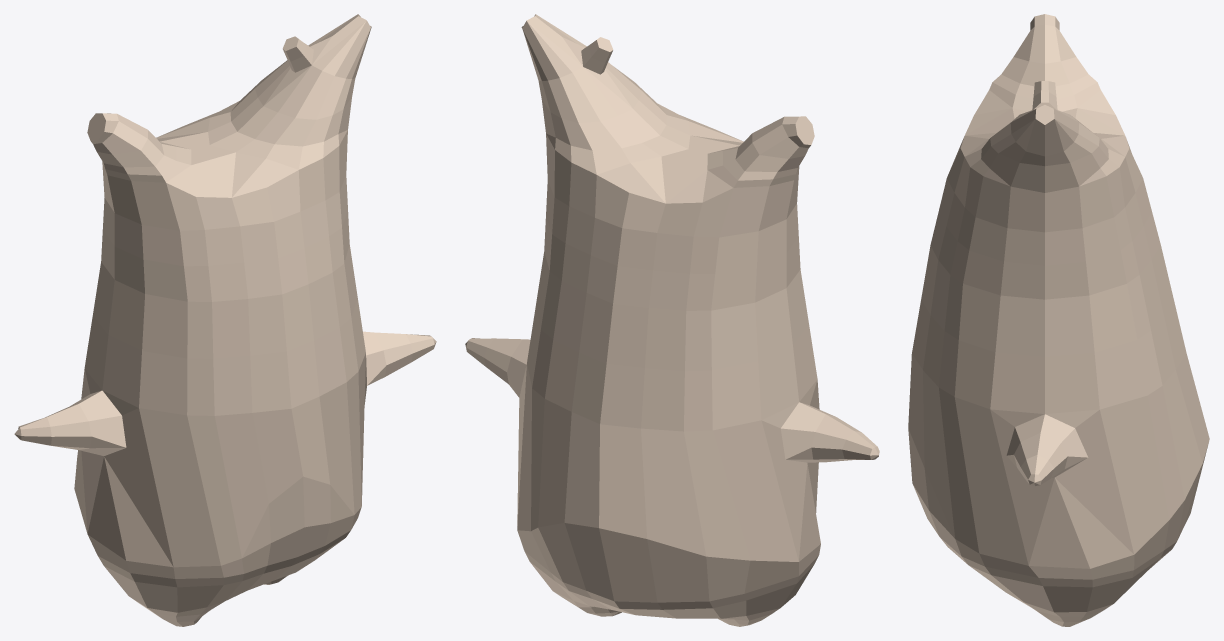
Rendered from frame_0007.obj.
3 views of the same model, side by side, from view 1: azimuth 30°, elevation 25°; view 2: azimuth 150°, elevation 25°; view 3: azimuth 270°, elevation 25° (orthographic). The views are drawn at different scales.
Parts seen in each view (by area): view 1: korok; view 2: korok; view 3: korok.
Boxes of the visible parts, x1,y1,x2,y2 form: korok: (14,14,436,626); korok: (465,14,879,626); korok: (908,14,1209,626).
Bounding box in the file's own units: 1.67 × 2.16 × 1.05.
